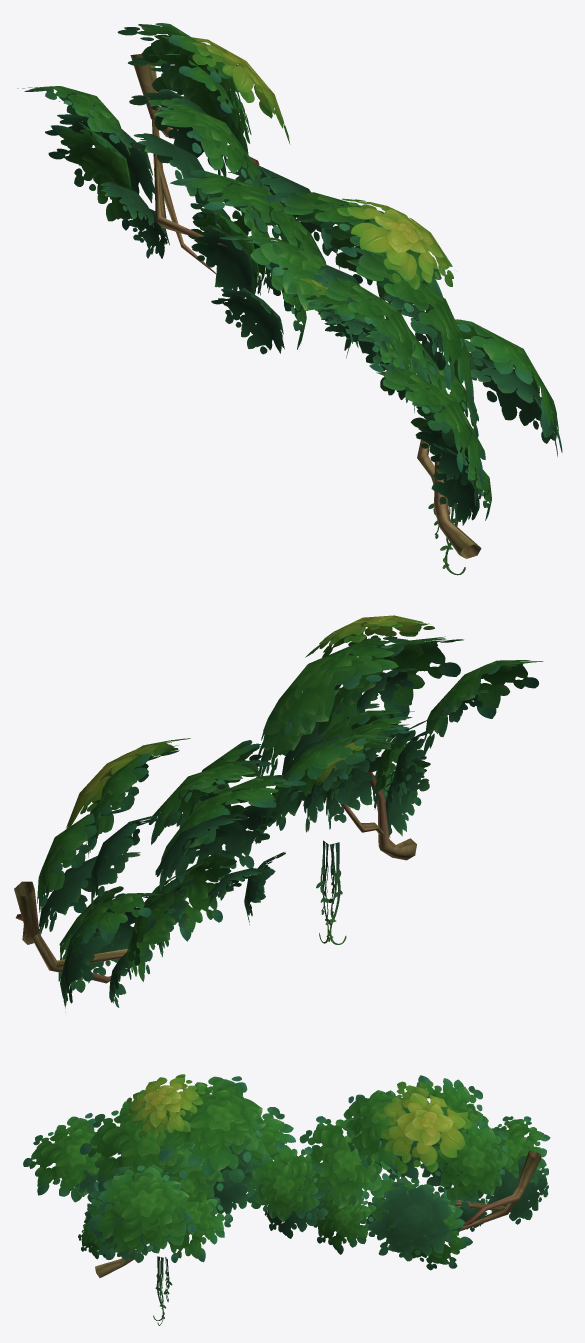
The model's file is zjm_qyezi.FBX.
3 renders of one model, top to bottom at view 1: azimuth 30°, elevation 25°; view 2: azimuth 150°, elevation 25°; view 3: azimuth 270°, elevation 25°, orthographic. The views are drawn at different scales.
Visible parts, largest first — view 1: shu; view 2: shu; view 3: shu.
Boxes of the visible parts, bbox=[...] form: shu: bbox=[17, 23, 562, 575]; shu: bbox=[14, 615, 543, 1012]; shu: bbox=[23, 1074, 550, 1325].
Bounding box in the file's own units: 11.3 × 36.03 × 17.53.
Materials: 1 (1 with a texture image).
